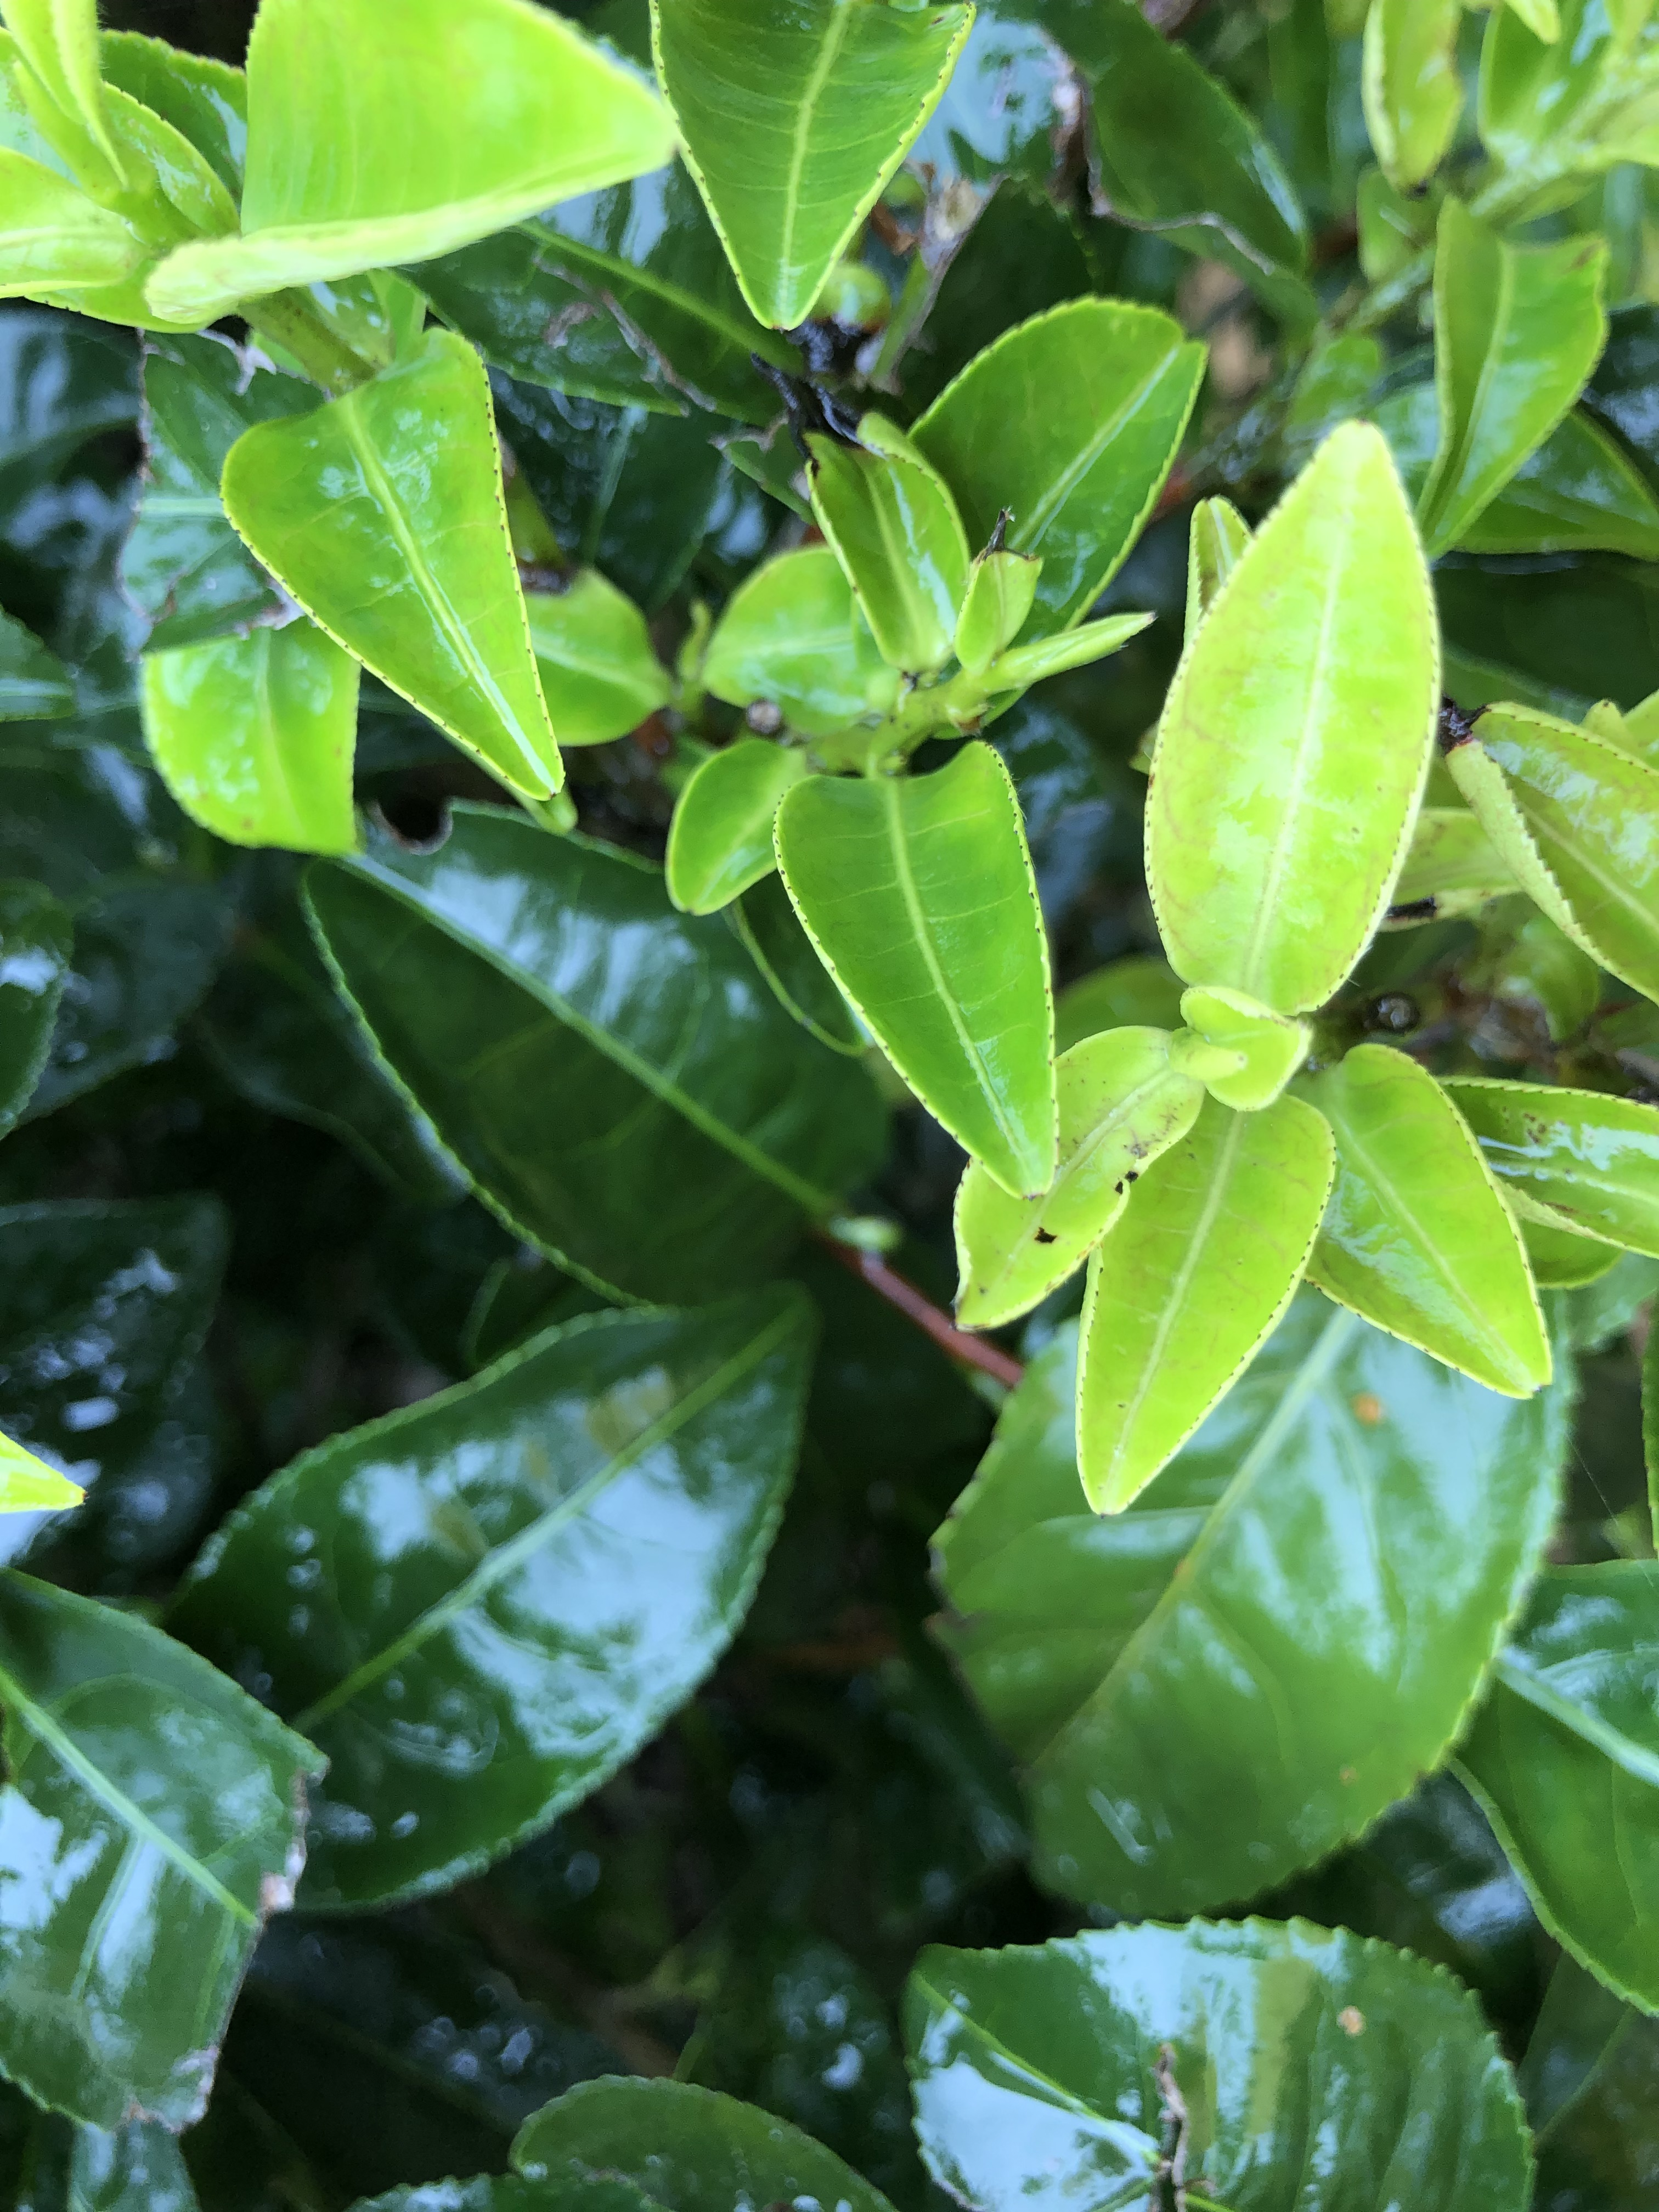formosa: (1136, 395, 1427, 1052)
mosquito_early: (934, 1021, 1218, 1315)
